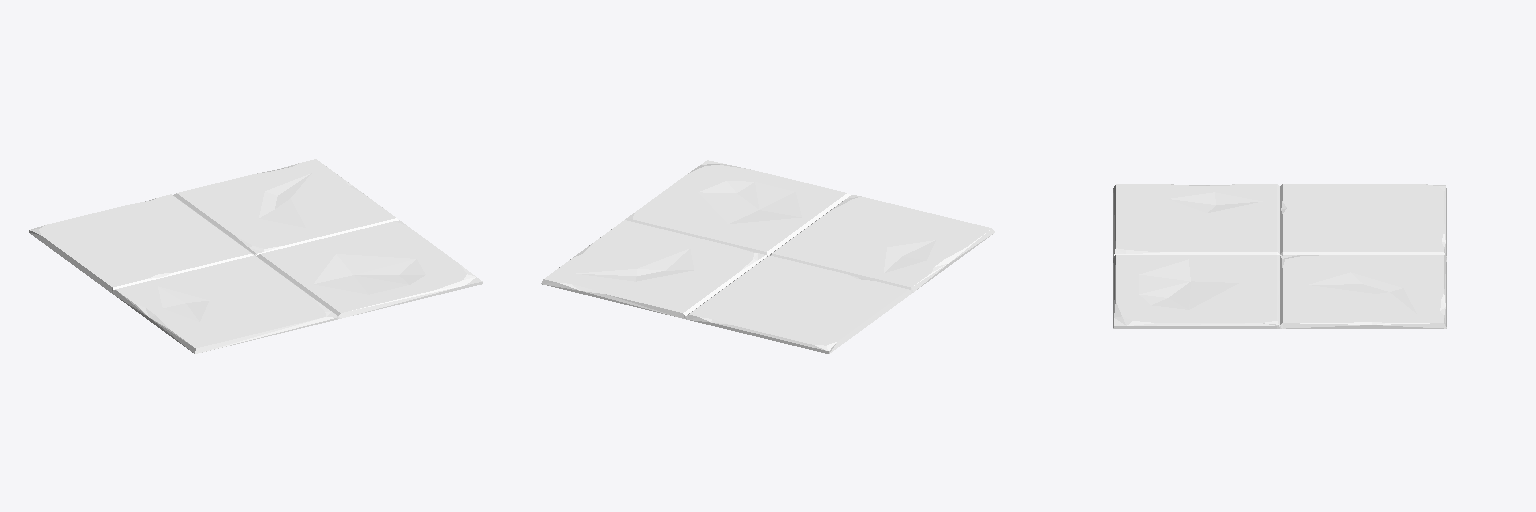
File: ConcreteBase.obj
3 views of the same model, side by side, from view 1: azimuth 30°, elevation 25°; view 2: azimuth 150°, elevation 25°; view 3: azimuth 270°, elevation 25° (orthographic).
Visible parts, largest first — view 1: SM_Env_Concrete_Base_01_Mesh; view 2: SM_Env_Concrete_Base_01_Mesh; view 3: SM_Env_Concrete_Base_01_Mesh.
Part boxes in pixels (x1,y1,x2,y2): SM_Env_Concrete_Base_01_Mesh: (29,159,482,353); SM_Env_Concrete_Base_01_Mesh: (541,160,994,353); SM_Env_Concrete_Base_01_Mesh: (1113,184,1446,328).
Size of the model in its own units: 5 by 0.0748 by 5.